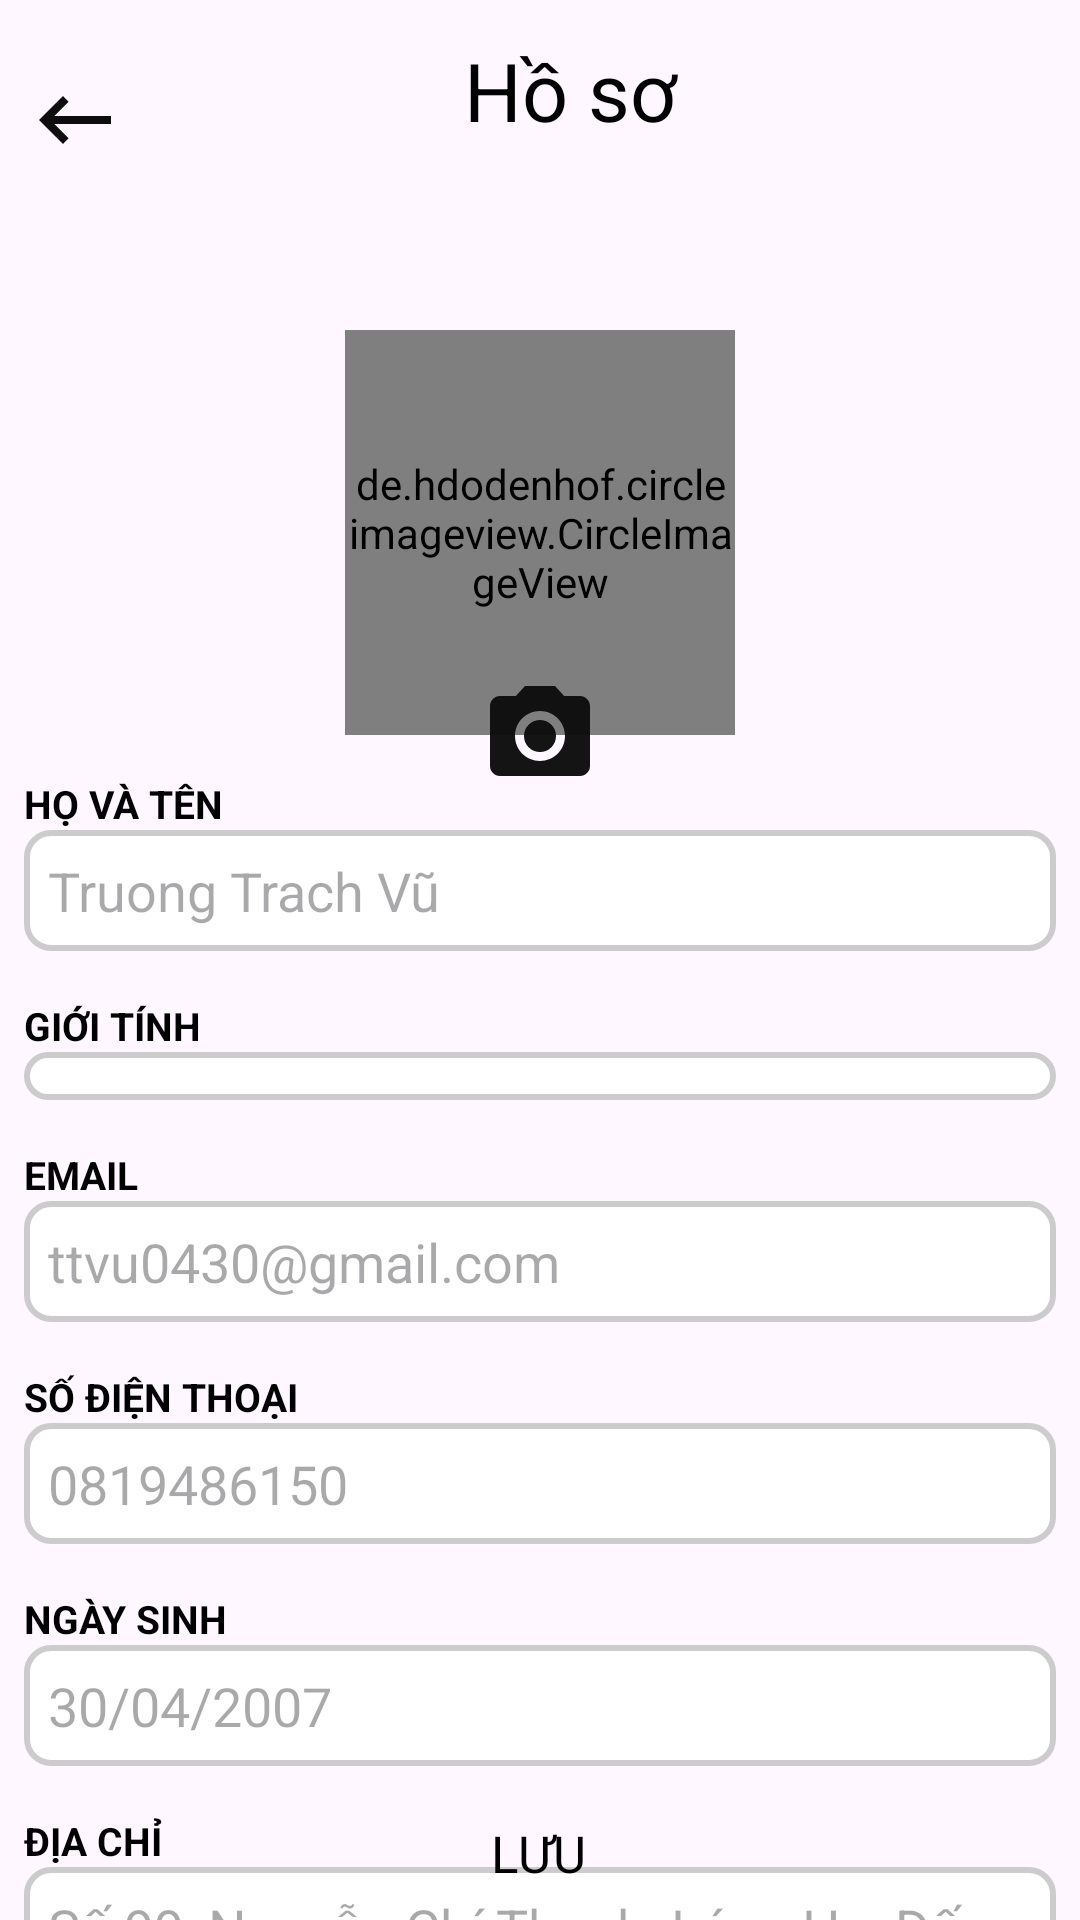

Where to tap for icons on this 1080*1920 app screen, as (x,y):
photo camera: (540,736)
